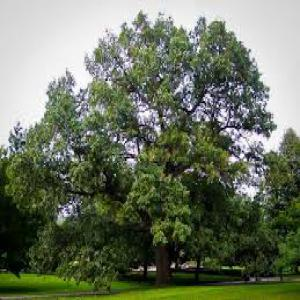Tree: (3, 5, 277, 286)
